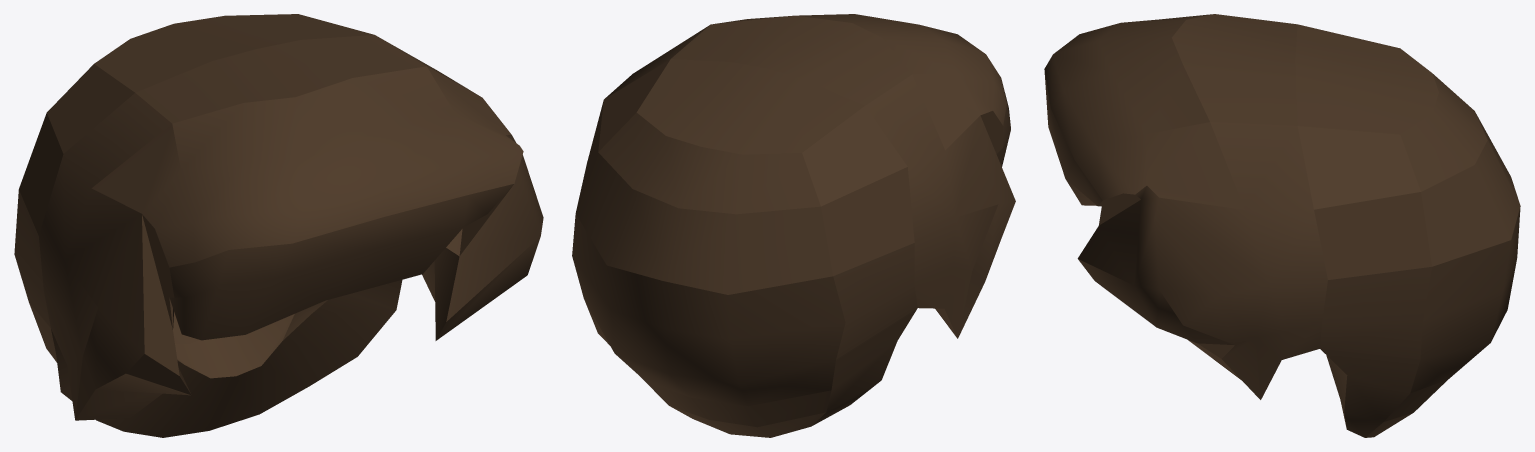
The model's file is Cabello_CortoFlecoH.fbx.
3 views of the same model, side by side, from view 1: azimuth 30°, elevation 25°; view 2: azimuth 150°, elevation 25°; view 3: azimuth 270°, elevation 25° (orthographic). The views are drawn at different scales.
Visible parts, largest first — view 1: Cabello_Corto_2; view 2: Cabello_Corto_2; view 3: Cabello_Corto_2.
Part boxes in pixels (bbox=[...]): Cabello_Corto_2: bbox=[14, 14, 543, 437]; Cabello_Corto_2: bbox=[572, 14, 1015, 437]; Cabello_Corto_2: bbox=[1044, 14, 1520, 437].
Size of the model in its own units: 3.06 by 2.81 by 3.27.
